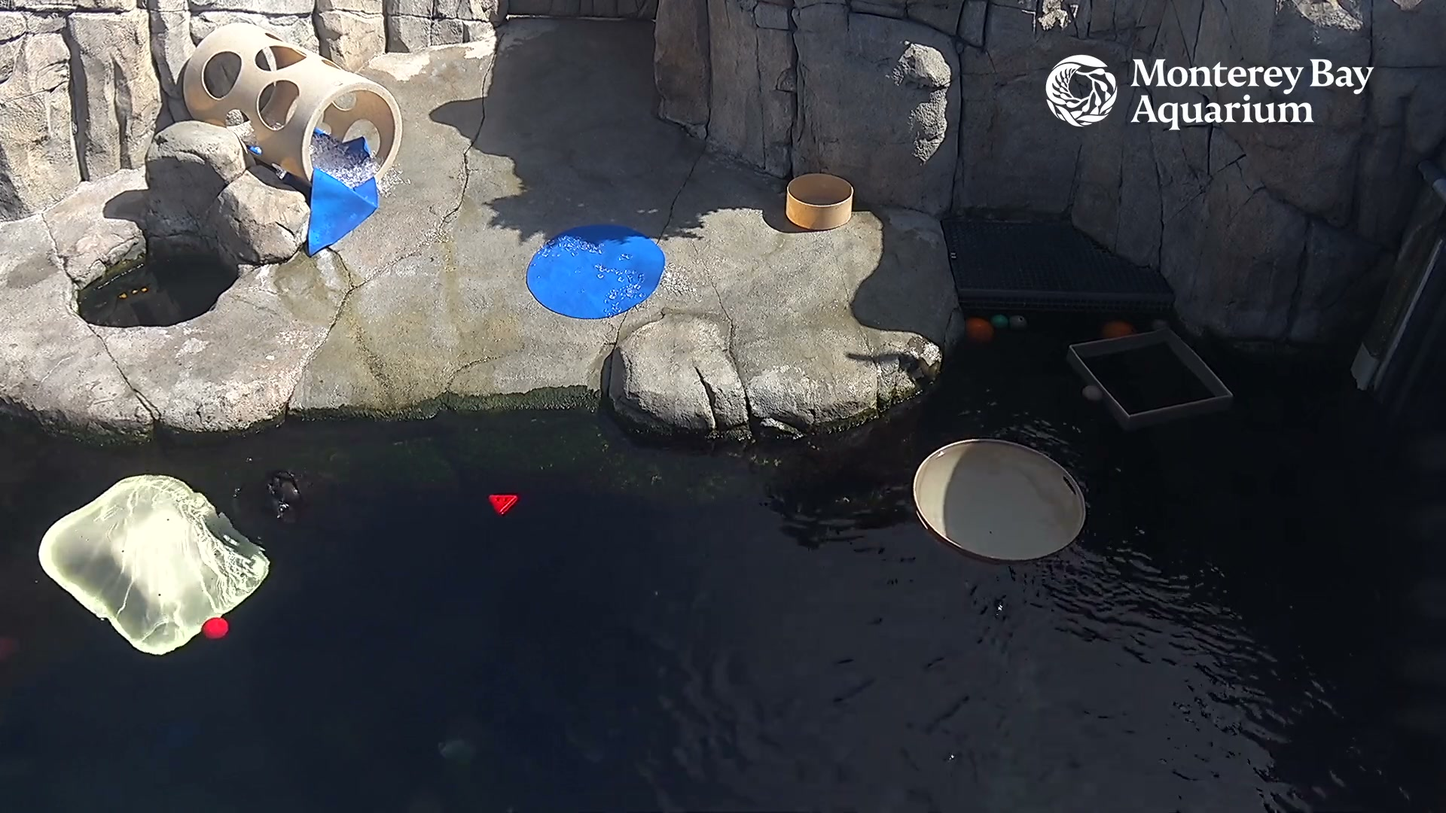Southern Sea Otter: (248, 458, 328, 520)
